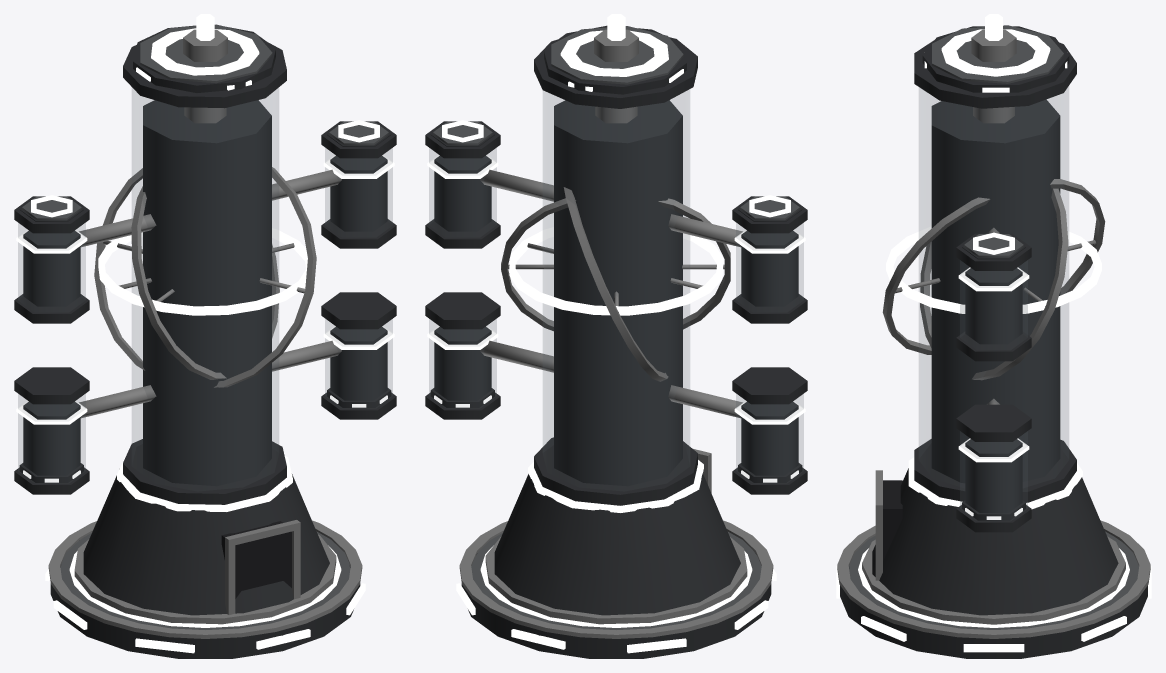
File: Skin_Reactor_T4.glb
3 renders of one model, left to right at view 1: azimuth 30°, elevation 25°; view 2: azimuth 150°, elevation 25°; view 3: azimuth 270°, elevation 25°, orthographic.
Parts seen in each view (by area): view 1: Skin_Reactor_T4; view 2: Skin_Reactor_T4; view 3: Skin_Reactor_T4.
Part boxes in pixels (x1=…): Skin_Reactor_T4: x1=14, y1=14, x2=396, y2=658; Skin_Reactor_T4: x1=425, y1=14, x2=807, y2=658; Skin_Reactor_T4: x1=836, y1=14, x2=1151, y2=658.
Size of the model in its own units: 5.57 by 8.44 by 4.18.
